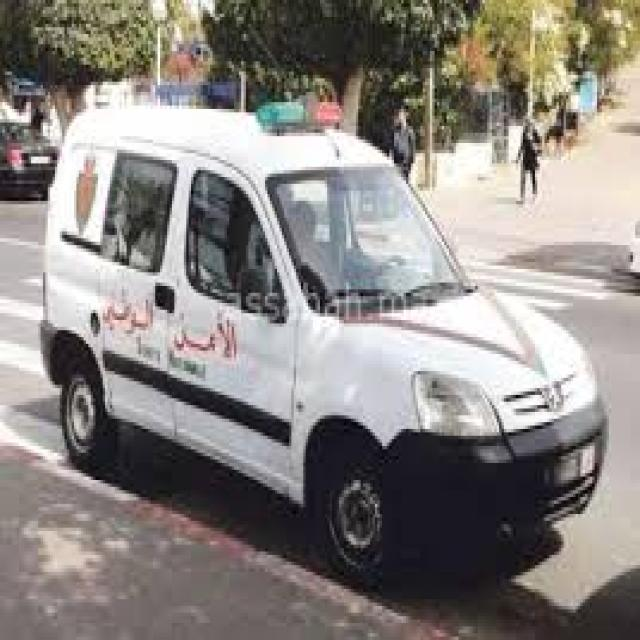police: (46, 78, 610, 573)
